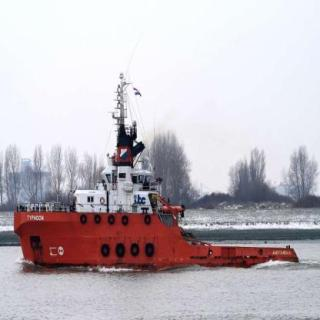Tug Boat: (13, 63, 248, 270)
